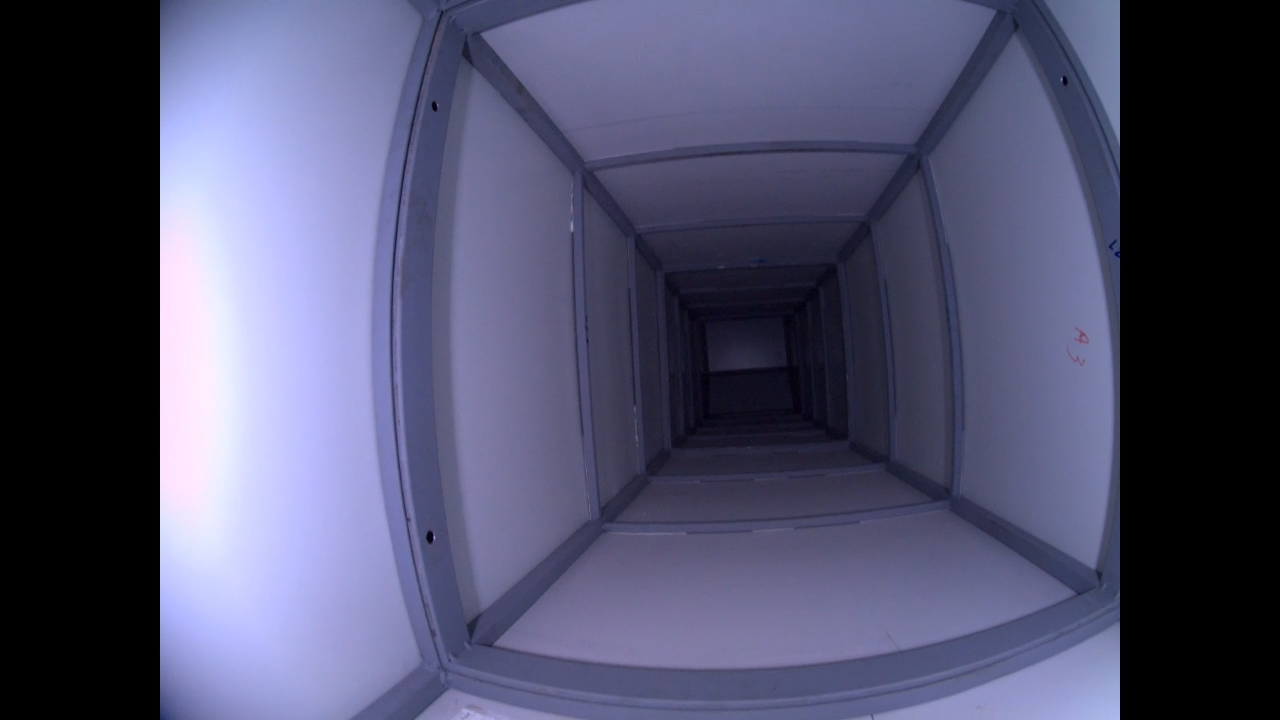divider: (564, 127, 977, 545)
